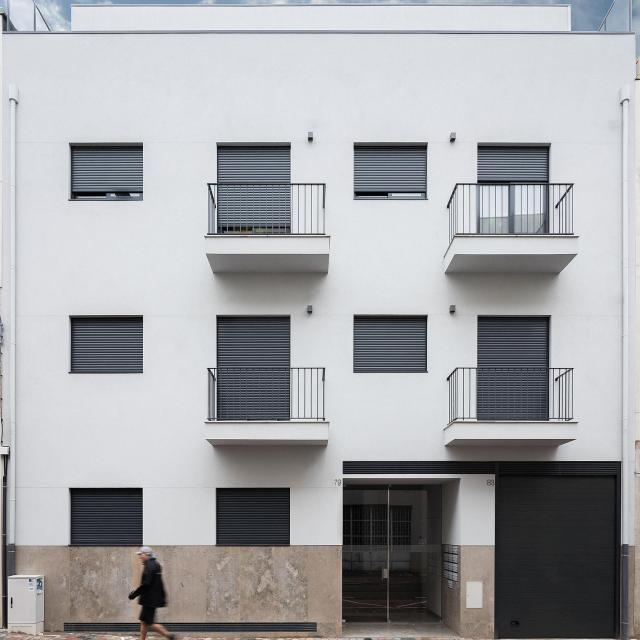door: (344, 481, 442, 616)
railing: (446, 364, 571, 426), (447, 182, 575, 242), (208, 367, 328, 425), (205, 182, 325, 235)
window: (216, 488, 290, 546), (351, 141, 426, 196), (75, 488, 144, 545), (479, 313, 552, 366), (350, 319, 422, 372), (70, 142, 143, 194), (73, 319, 143, 369), (218, 318, 290, 363), (215, 144, 292, 181), (480, 148, 547, 184)
